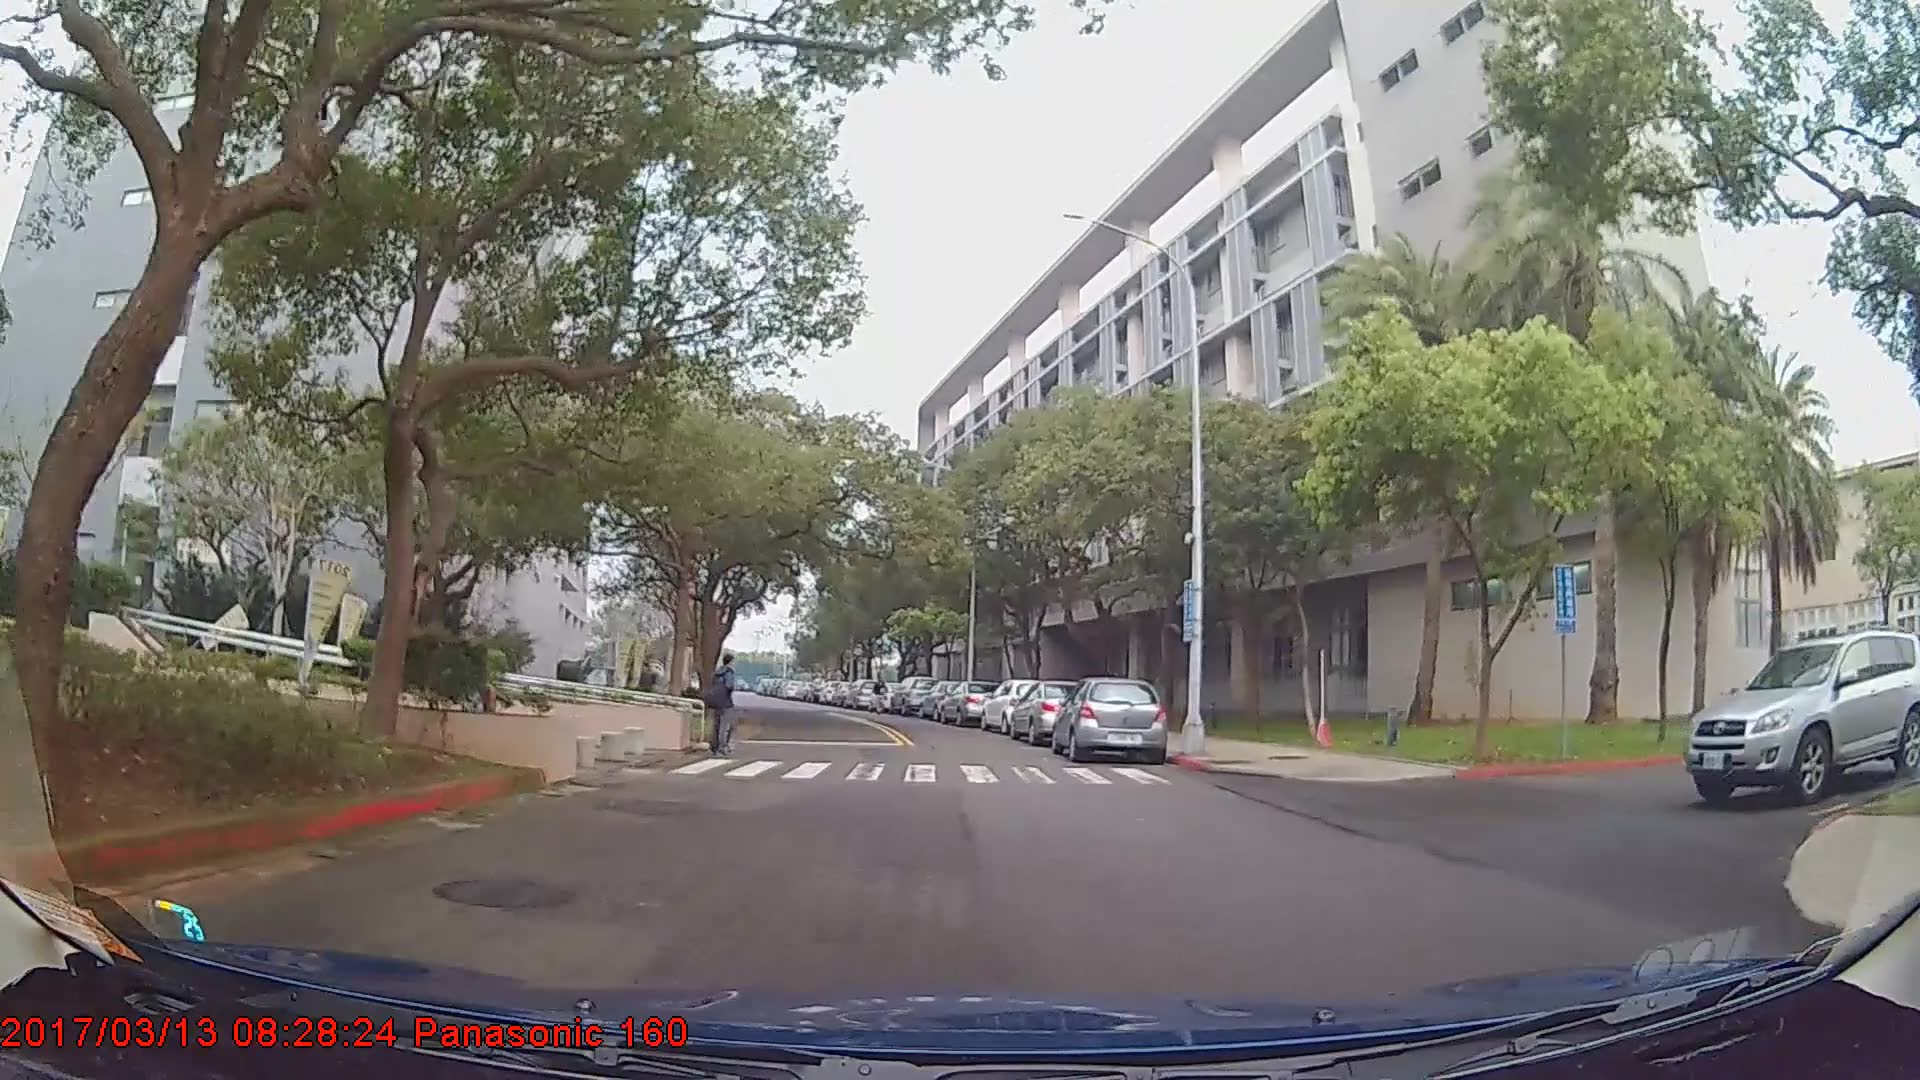pedestrian: (707, 658, 747, 768), (870, 674, 890, 716)
vehicle: (1683, 628, 1920, 807), (1050, 677, 1167, 764), (1007, 681, 1097, 746), (979, 679, 1058, 735), (936, 680, 1002, 728), (888, 675, 938, 716)
